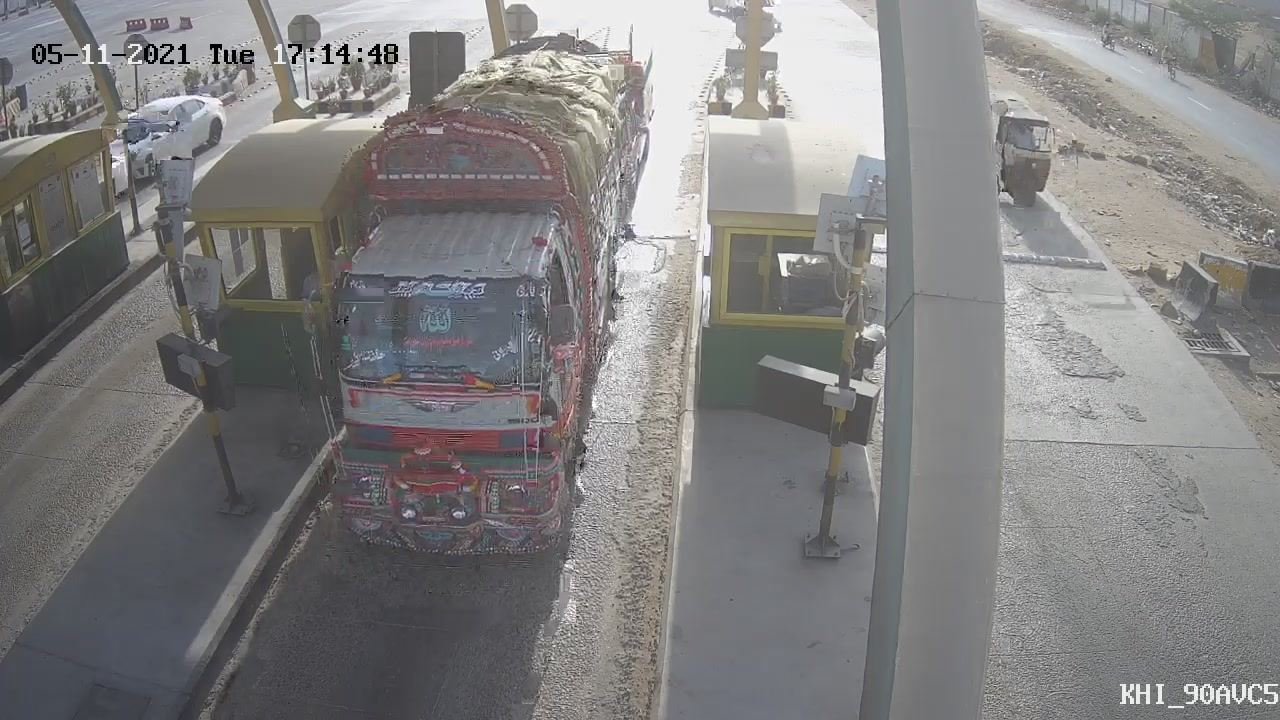F5: (269, 7, 677, 590)
